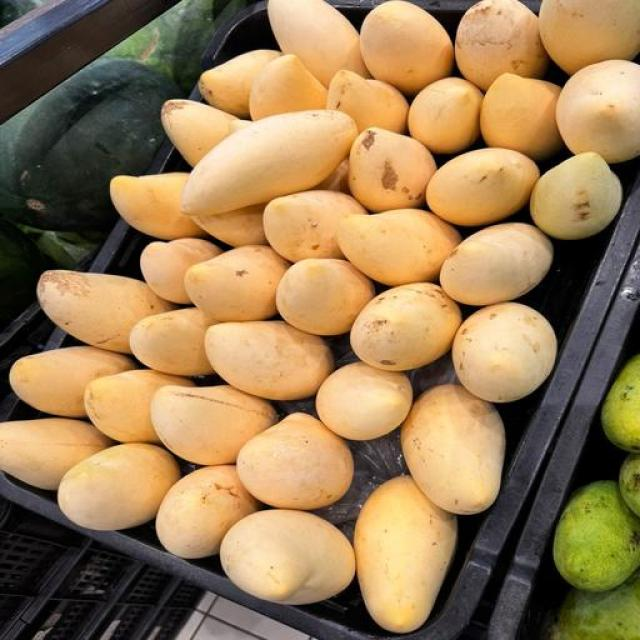organic: (0, 0, 640, 640), (0, 0, 246, 322), (0, 0, 246, 232), (0, 59, 178, 231), (545, 454, 639, 639), (105, 0, 246, 93), (107, 0, 246, 93), (107, 0, 213, 92), (553, 480, 639, 591), (530, 150, 622, 239), (545, 572, 639, 639), (0, 220, 49, 324), (19, 225, 104, 268), (602, 355, 639, 452), (35, 232, 104, 268), (0, 0, 49, 27), (619, 454, 639, 516), (213, 0, 251, 27)
